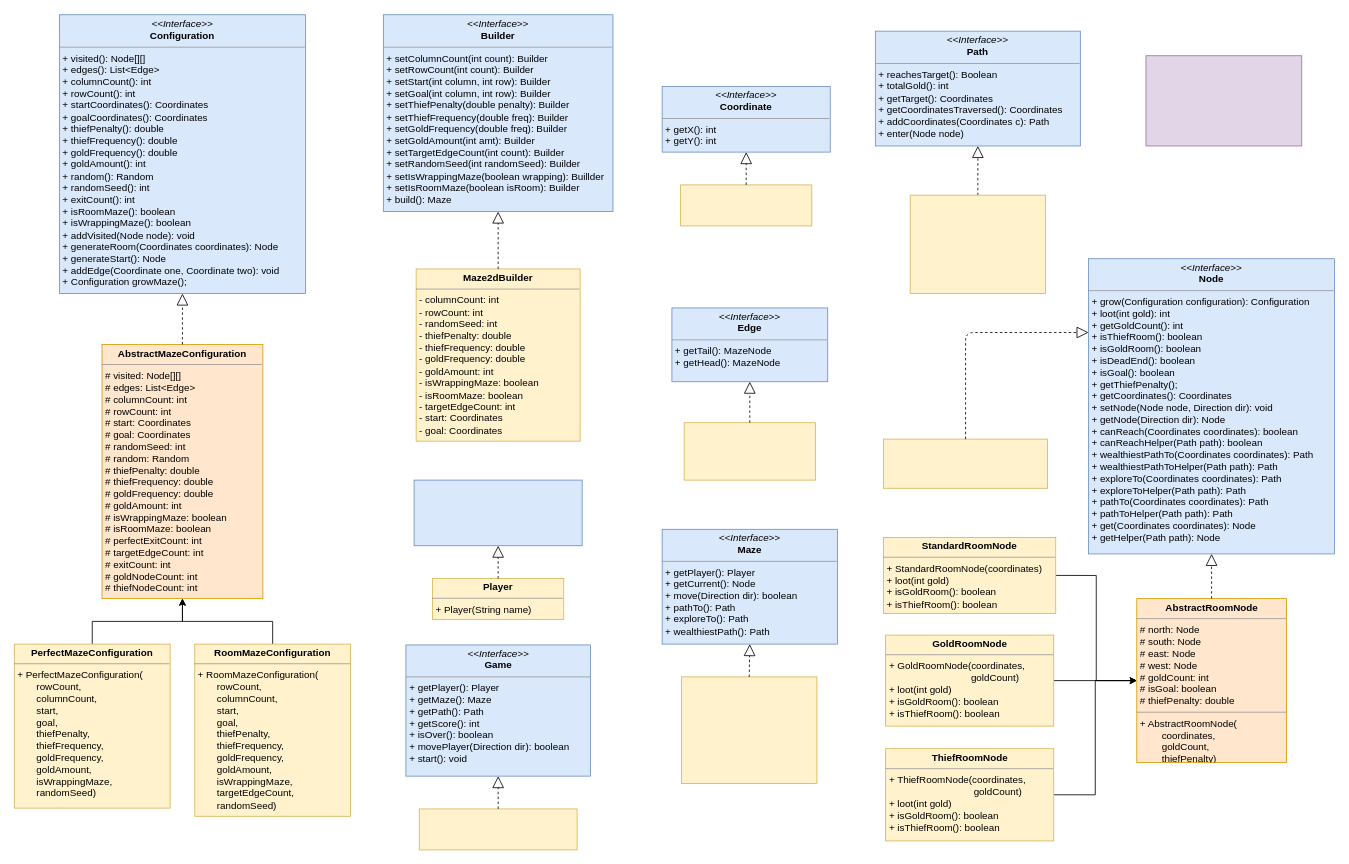
Image size: 1349x864. Some labels were removed from this diagram. Each missing label, with the box of its shape:
2DMaze - start: Node - current: Node - goal: Node + Maze(start, goal ): (681, 676, 817, 784)
<<Enum>> Direction NORTH EAST SOUTH WEST: (1145, 55, 1302, 146)
<<Interface>> Player + getGoldCollected() + lootCell(Cell cell): (413, 479, 582, 546)
DeadEndNode: (883, 438, 1048, 488)
MazeCoordinate + MazeCoordinate(x, y);: (680, 184, 812, 226)
MazeGame + MazeGame(Player p, Maze m): (418, 808, 577, 850)
MazePath - target - totalGold - nodes: List<MazeNode> + MazePath(Cell target): (909, 194, 1046, 294)
Wall - tail: MazeNode - head: MazeNode: (683, 422, 815, 480)
